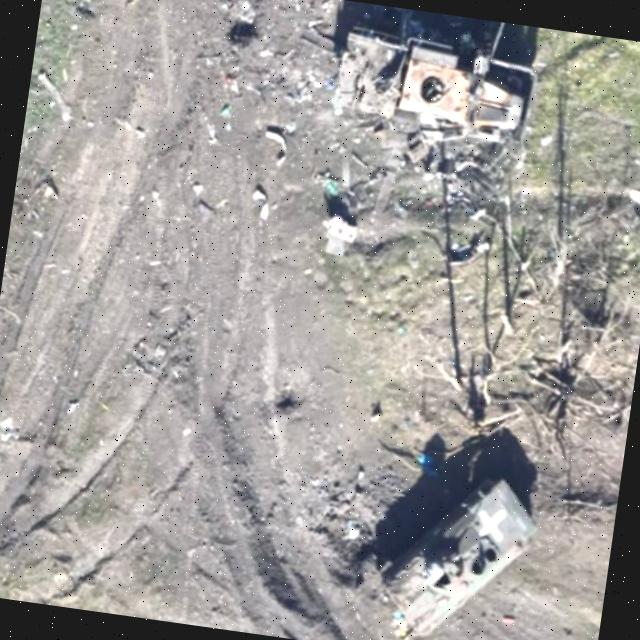APC: (378, 455, 540, 640)
Destroyed: (333, 27, 540, 148)
